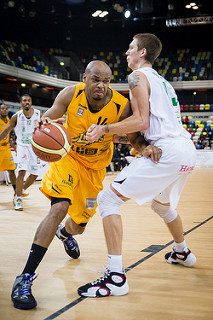basketball: (30, 121, 71, 162)
